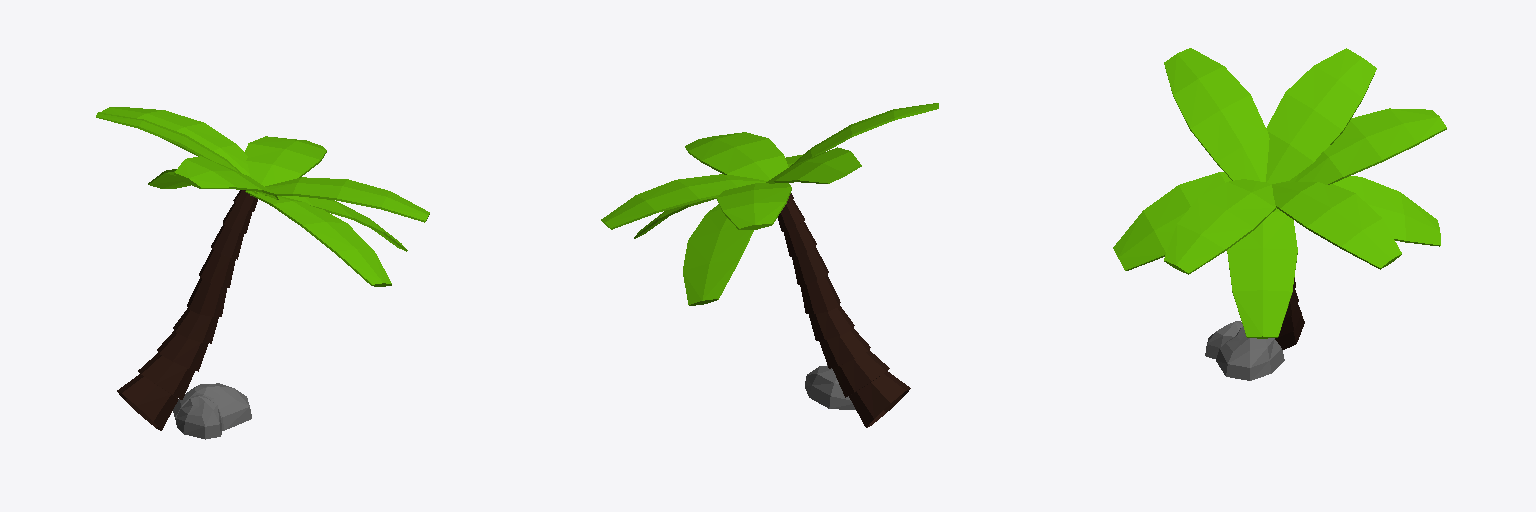
Rendered from Palm_Tree_02.obj.
3 views of the same model, side by side, from view 1: azimuth 30°, elevation 25°; view 2: azimuth 150°, elevation 25°; view 3: azimuth 270°, elevation 25° (orthographic).
Visible parts, largest first — view 1: LP_LEAF, LP_TREE_TRUNK_, LP_ROCK; view 2: LP_LEAF, LP_TREE_TRUNK_, LP_ROCK; view 3: LP_LEAF, LP_ROCK, LP_TREE_TRUNK_.
Boxes of the visible parts, x1=… form: LP_LEAF: x1=96, y1=107, x2=429, y2=286; LP_TREE_TRUNK_: x1=117, y1=190, x2=257, y2=430; LP_ROCK: x1=173, y1=383, x2=251, y2=439; LP_LEAF: x1=601, y1=103, x2=938, y2=305; LP_TREE_TRUNK_: x1=778, y1=193, x2=910, y2=427; LP_ROCK: x1=805, y1=365, x2=855, y2=409; LP_LEAF: x1=1113, y1=48, x2=1446, y2=338; LP_ROCK: x1=1205, y1=321, x2=1284, y2=380; LP_TREE_TRUNK_: x1=1275, y1=278, x2=1304, y2=349.
Size of the model in its own units: 9.12 by 9.38 by 9.68.